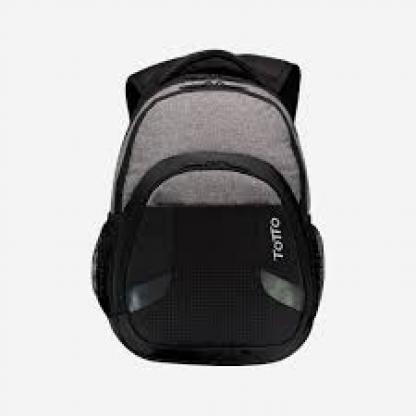morral: (70, 54, 340, 377)
